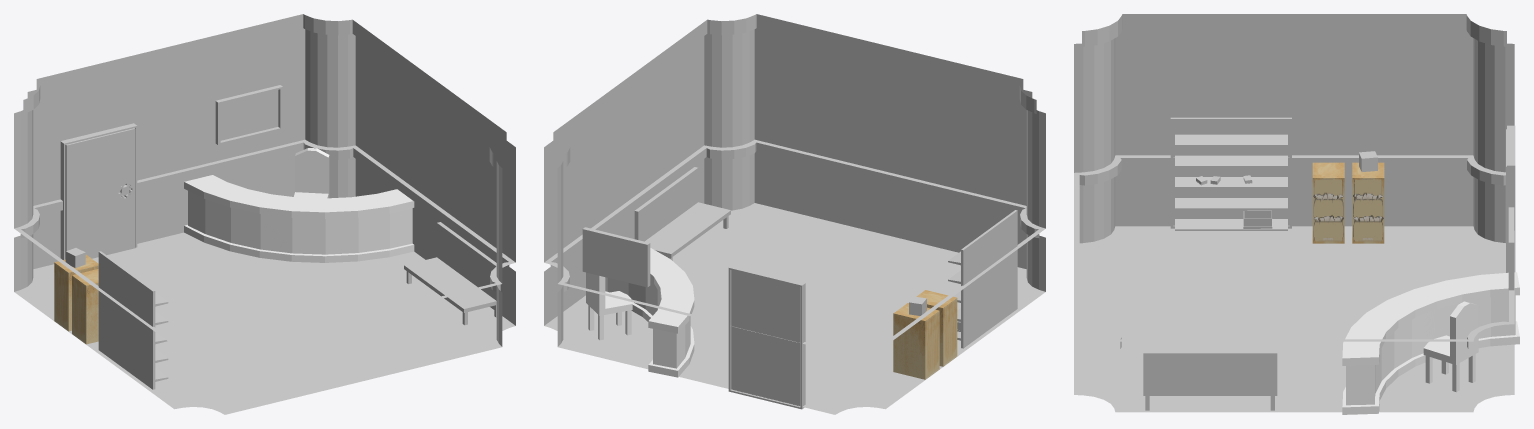
Rendered from Lobby_MostlyUntextured.glb.
3 views of the same model, side by side, from view 1: azimuth 30°, elevation 25°; view 2: azimuth 150°, elevation 25°; view 3: azimuth 270°, elevation 25° (orthographic). The views are drawn at different scales.
Parts seen in each view (by area): view 1: room, desk.UVd, door, shelf, bench.001, coarkboard, filing cabinet, chair.uv, door.001, filing cabinet.001; view 2: room, door, shelf, desk.UVd, bench.001, coarkboard, filing cabinet.001, door.001, filing cabinet, chair.uv, chair legs; view 3: room, shelf, desk.UVd, bench.001, filing cabinet, filing cabinet.001, chair.uv, door.001, chair legs, coarkboard, box.001.
Boxes of the visible parts, box(x1,y1,x2,y2) form: room: box(14, 14, 515, 414); desk.UVd: box(184, 175, 414, 262); door: box(65, 128, 135, 259); shelf: box(98, 251, 168, 389); bench.001: box(404, 222, 500, 312); coarkboard: box(215, 85, 282, 145); filing cabinet: box(72, 269, 98, 344); chair.uv: box(294, 148, 329, 198); door.001: box(60, 123, 137, 259); filing cabinet.001: box(54, 254, 98, 331); room: box(544, 14, 1045, 414); door: box(731, 270, 800, 406); shelf: box(948, 210, 1017, 348); desk.UVd: box(605, 248, 694, 377); bench.001: box(634, 167, 730, 257); coarkboard: box(582, 227, 650, 287); filing cabinet.001: box(893, 303, 939, 379); door.001: box(728, 265, 805, 409); filing cabinet: box(916, 290, 957, 366); chair.uv: box(586, 272, 632, 315); chair legs: box(588, 305, 631, 340); room: box(1074, 14, 1514, 412); shelf: box(1170, 117, 1291, 230); desk.UVd: box(1342, 272, 1519, 414); bench.001: box(1143, 351, 1277, 395); filing cabinet: box(1312, 162, 1344, 243); filing cabinet.001: box(1352, 162, 1384, 243); chair.uv: box(1423, 301, 1478, 364); door.001: box(1507, 125, 1515, 272); chair legs: box(1425, 354, 1475, 392); coarkboard: box(1508, 207, 1514, 290); box.001: box(1243, 210, 1272, 228).
Size of the model in its own units: 12.17 by 6.55 by 12.14.
3 materials, 1 textured.
